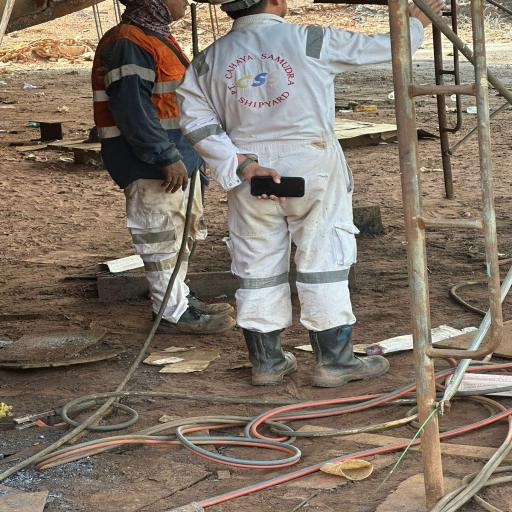safety_shoe: (306, 327, 392, 389), (241, 326, 301, 387), (160, 304, 232, 338), (183, 293, 230, 315)
